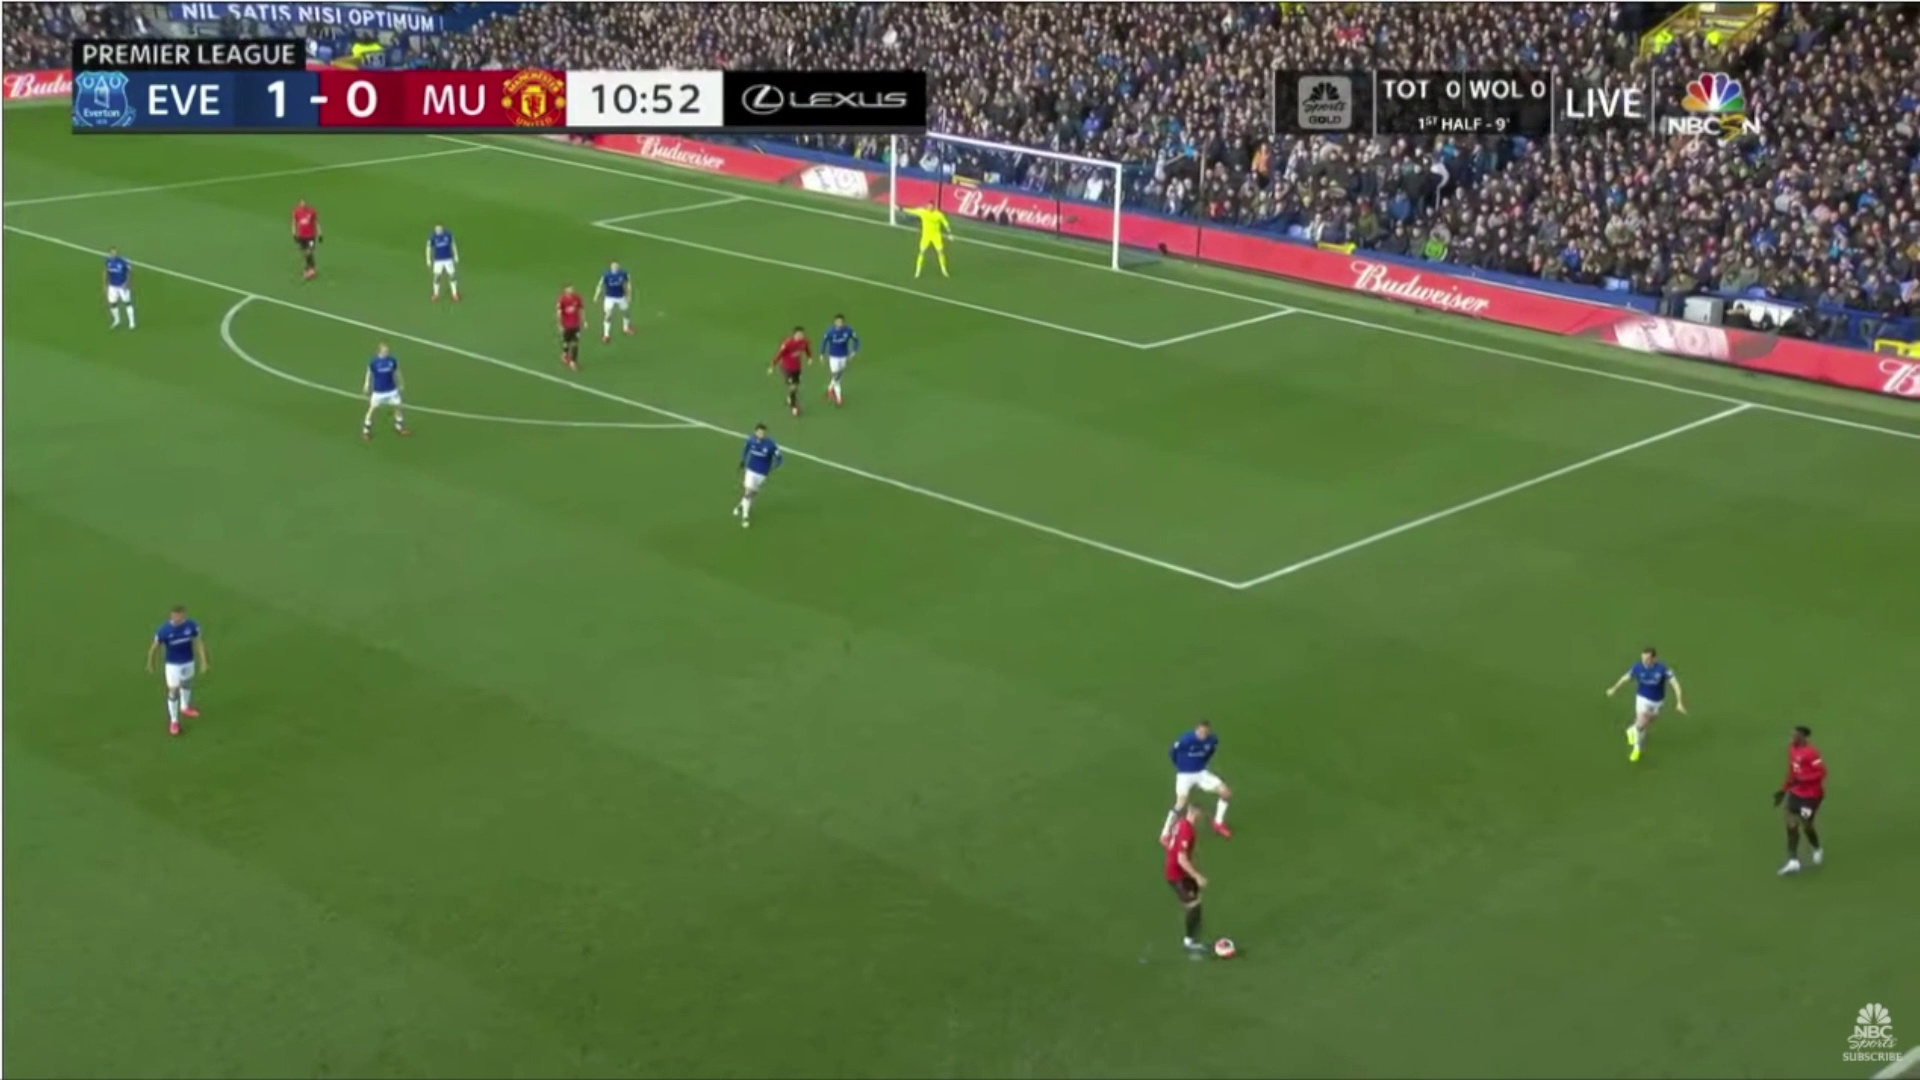ball: (1212, 927, 1243, 967)
player: (1747, 704, 1854, 879), (131, 583, 224, 750), (1599, 625, 1699, 763), (1152, 696, 1249, 838), (714, 413, 800, 548), (341, 327, 427, 456), (1160, 800, 1218, 975), (266, 183, 343, 292), (83, 238, 154, 344), (814, 283, 872, 412), (895, 190, 970, 288), (760, 310, 820, 421), (410, 213, 477, 310), (587, 246, 652, 344), (547, 273, 595, 383)
